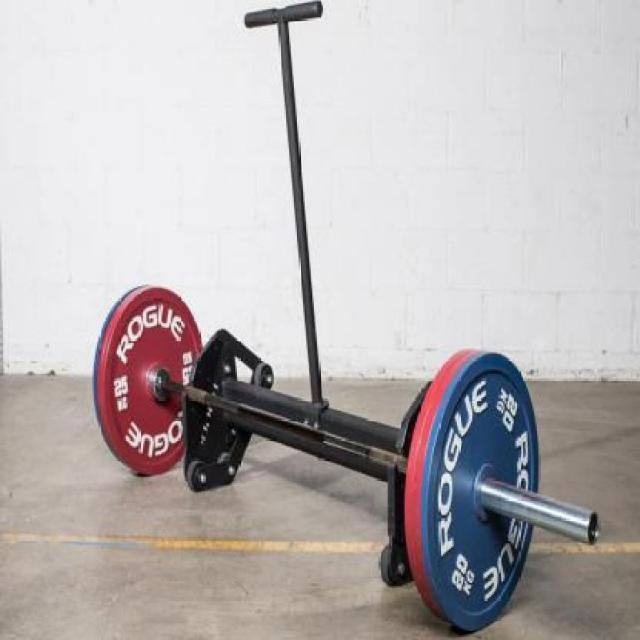barbell: (402, 340, 555, 636)
